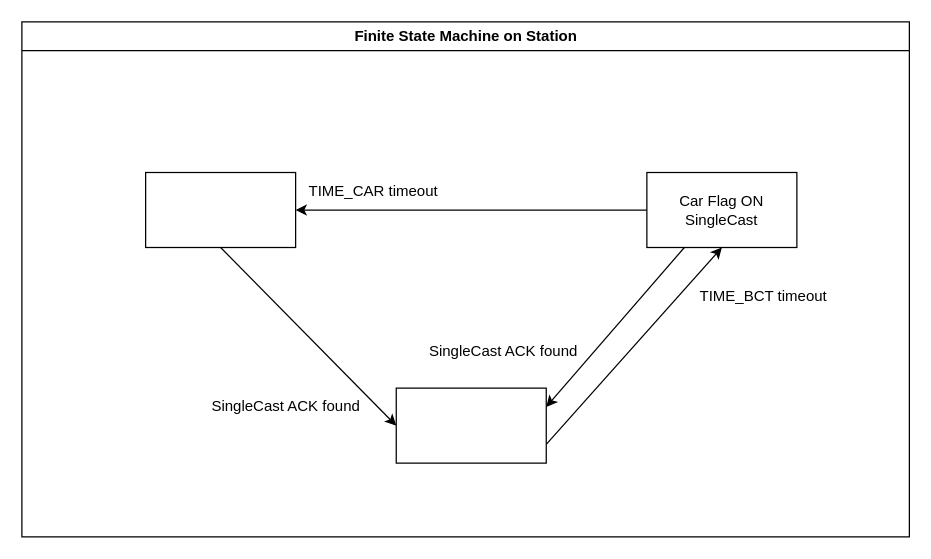
Some shapes in this 931 by 559 pixel diagram are drawn without their labels. Each missing label, with the centre of its shape:
Car Flag OFF SingleCast: the point at 220,209
Car Flag ON BroadCast: the point at 470,425
